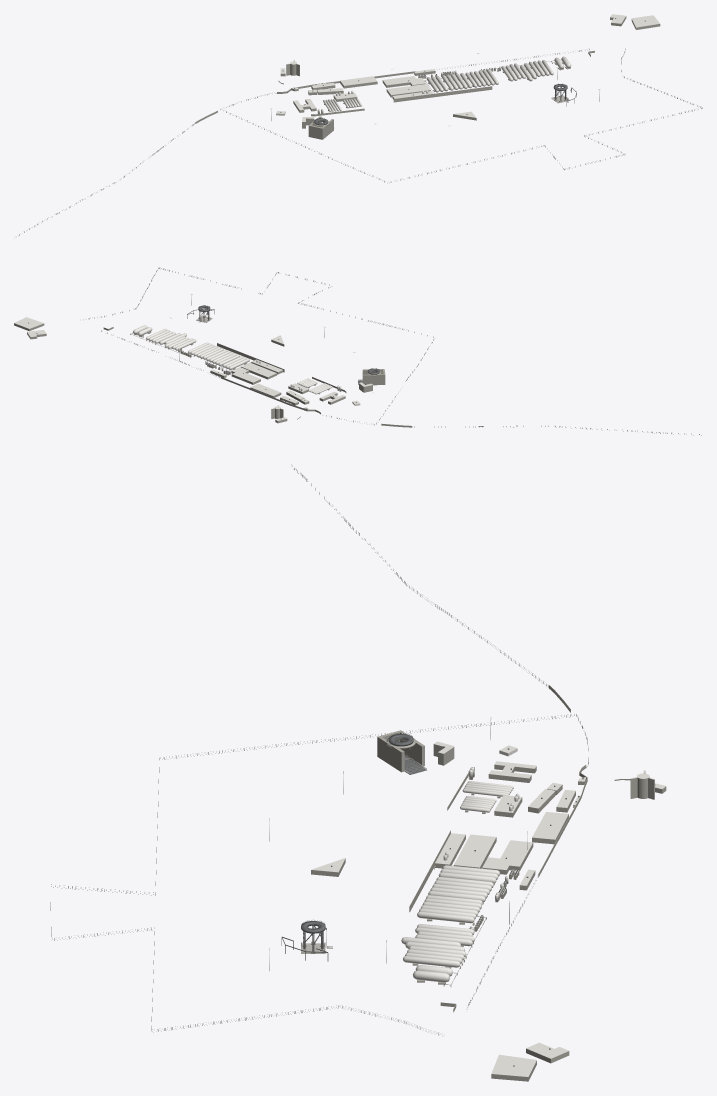
File: starbase.glb
The picture shows the model from 3 angles, top to bottom: view 1: azimuth 30°, elevation 25°; view 2: azimuth 150°, elevation 25°; view 3: azimuth 270°, elevation 25°; orthographic projection. The views are drawn at different scales.
Parts seen in each view (by area): view 1: SiteStructures; view 2: SiteStructures; view 3: SiteStructures.
Part boxes in pixels (left/top/right/bottom): SiteStructures: left=19, top=14, right=702, bottom=235; SiteStructures: left=14, top=267, right=701, bottom=435; SiteStructures: left=50, top=464, right=666, bottom=1081.
Size of the model in its own units: 1183 by 21.37 by 501.
4 materials, 1 textured.
